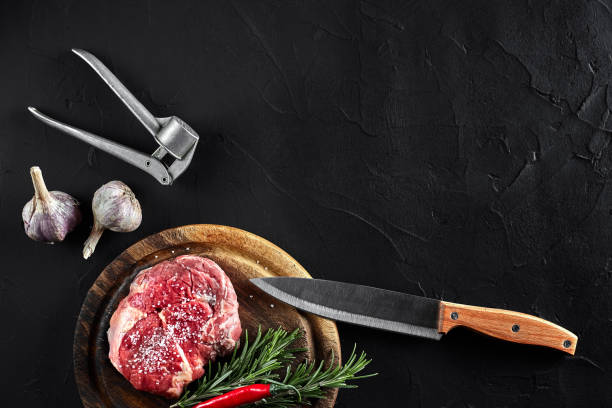knife: (246, 274, 579, 357)
